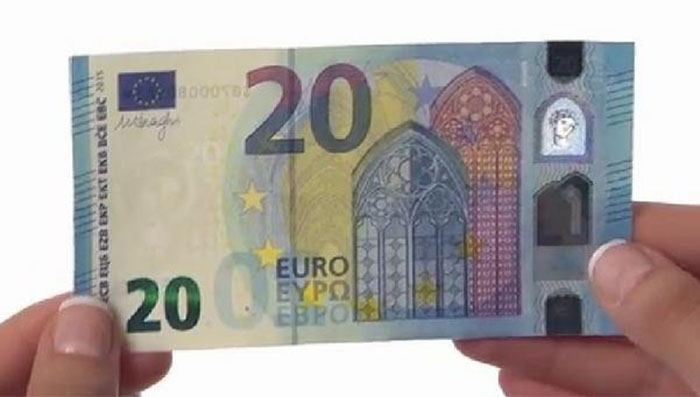billete: (66, 38, 639, 356)
